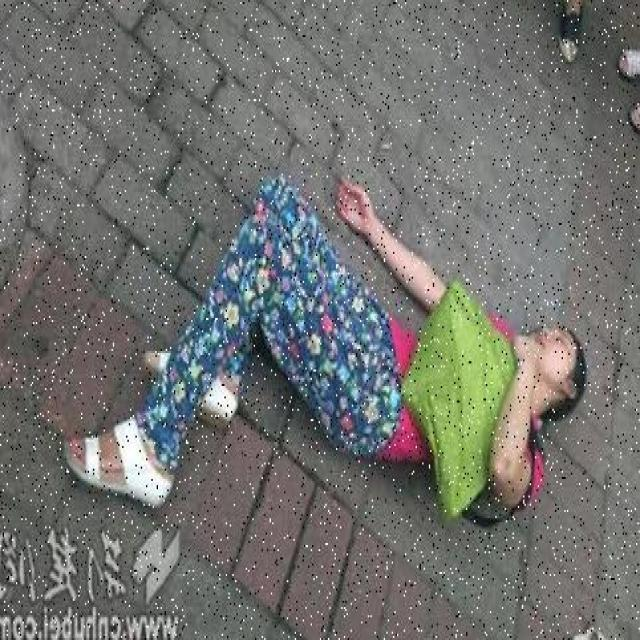fall: (65, 190, 604, 506)
